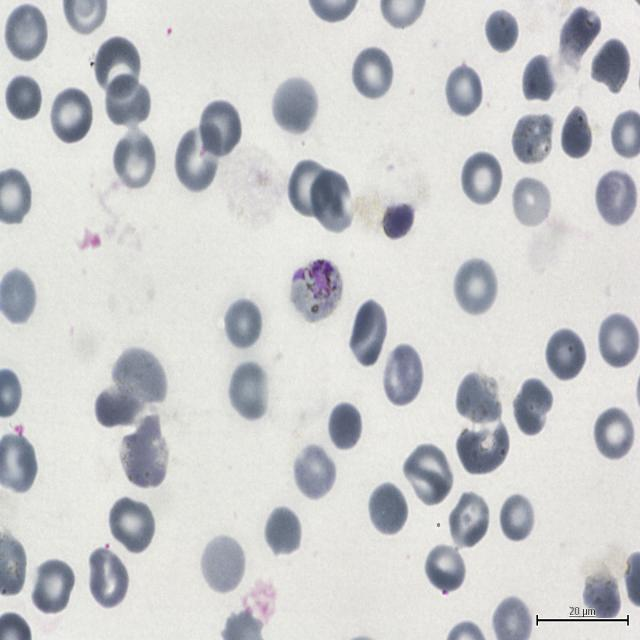red blood cell: (402, 440, 453, 508), (120, 416, 168, 488), (174, 124, 221, 193), (90, 34, 142, 96), (456, 418, 509, 477), (86, 546, 132, 612), (108, 494, 156, 556), (271, 74, 319, 136), (227, 358, 272, 424), (308, 167, 352, 234), (200, 533, 247, 595), (381, 343, 425, 409), (116, 346, 166, 404), (3, 1, 49, 64), (348, 298, 388, 370), (48, 84, 94, 146), (453, 256, 499, 317), (112, 129, 156, 192), (197, 98, 242, 159), (591, 406, 638, 464), (30, 557, 76, 616), (286, 158, 331, 218), (459, 149, 504, 208), (292, 442, 337, 501), (588, 36, 632, 95), (596, 312, 640, 371), (104, 73, 150, 129), (512, 376, 554, 437), (448, 489, 490, 550), (511, 109, 555, 167), (510, 173, 554, 230), (351, 45, 394, 102), (366, 481, 409, 538), (594, 170, 636, 228), (544, 326, 587, 382), (456, 372, 501, 425), (423, 541, 467, 595), (580, 566, 620, 624), (222, 296, 264, 350), (559, 8, 600, 62), (444, 63, 484, 118), (263, 504, 302, 558), (498, 490, 536, 544), (325, 400, 363, 452), (95, 386, 144, 426), (6, 72, 42, 121), (520, 54, 556, 102), (561, 106, 593, 160), (484, 10, 522, 54), (382, 201, 418, 241)
trophozoite: (290, 257, 344, 324)
